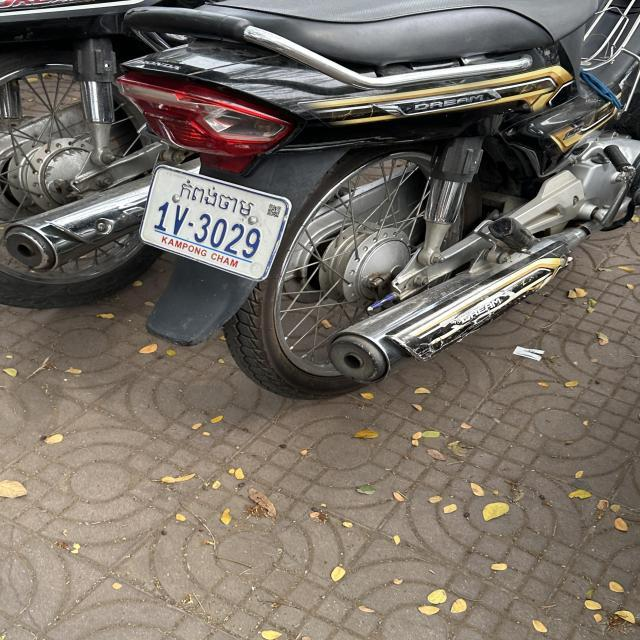Kampong_Cham: (180, 179, 254, 216)
